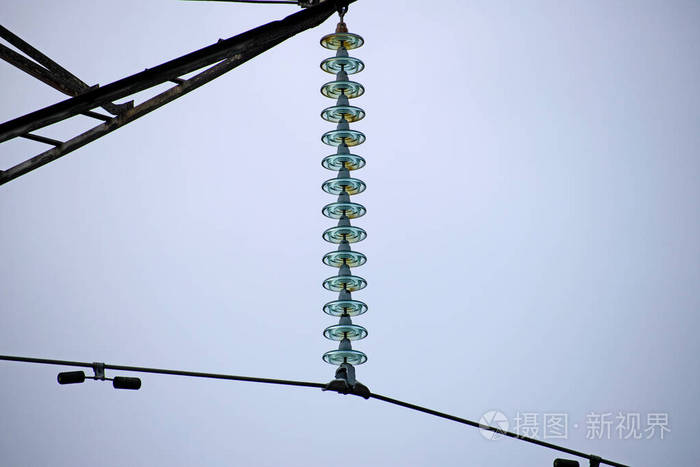insulator: (317, 32, 369, 368)
